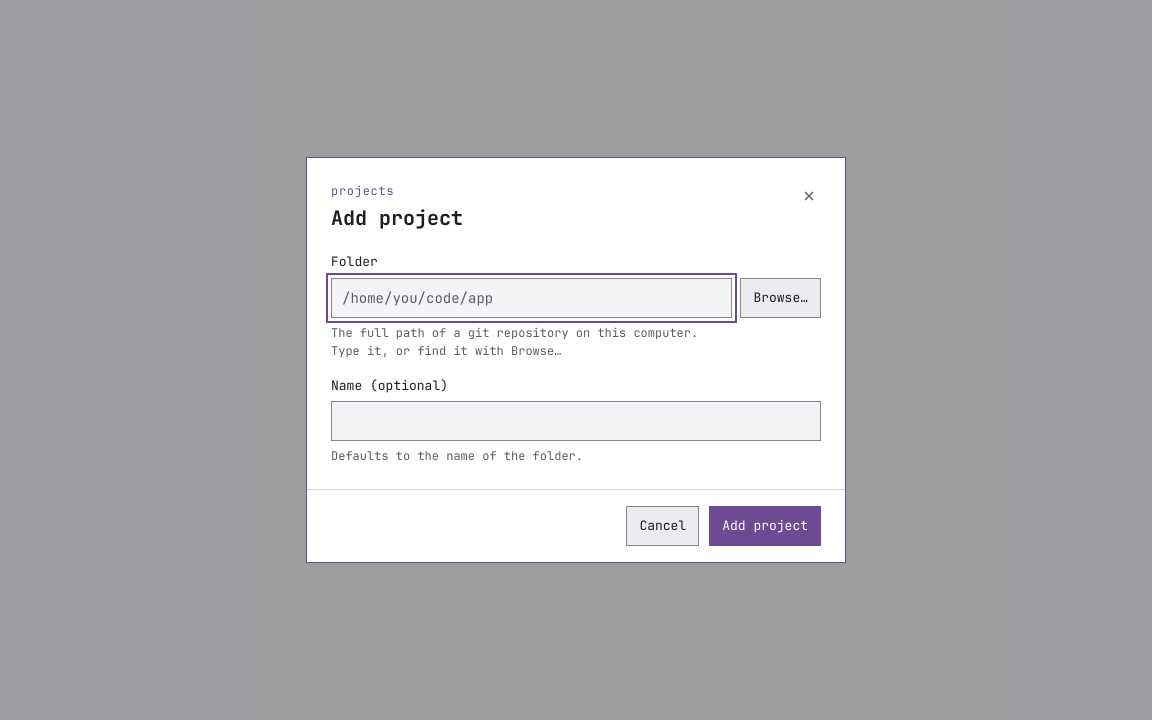
Browse… opens the folder picker and puts the chosen folder into the field
In the field named "path": (532, 298) [331,278,732,318], type "/work"
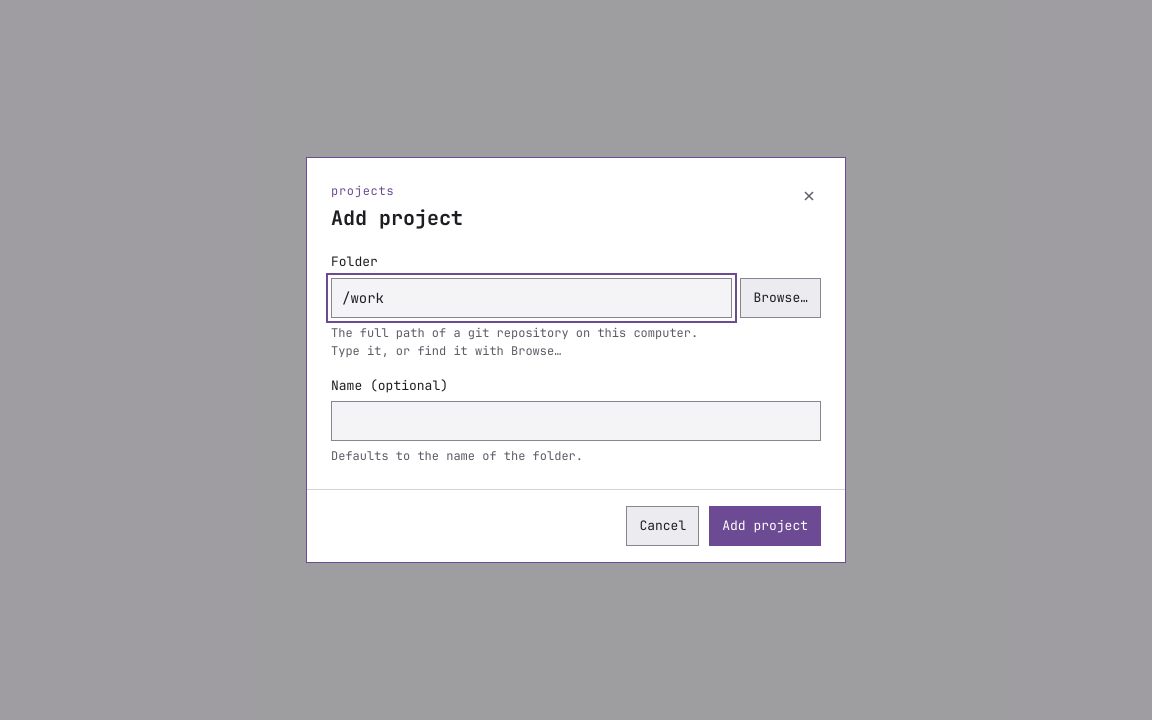
Click the button "Browse…": (781, 298) [740,278,821,318]
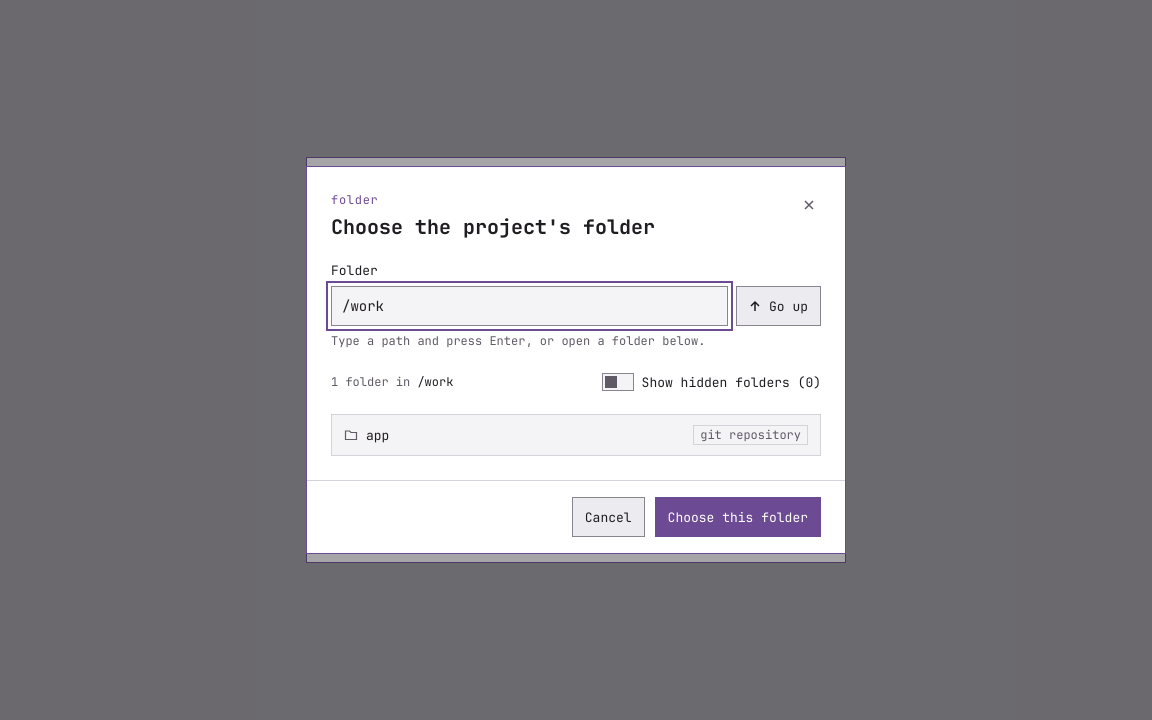
Check: the button "app git repository" is shown
Click the button "app git repository": (751, 435) [332,415,820,455]
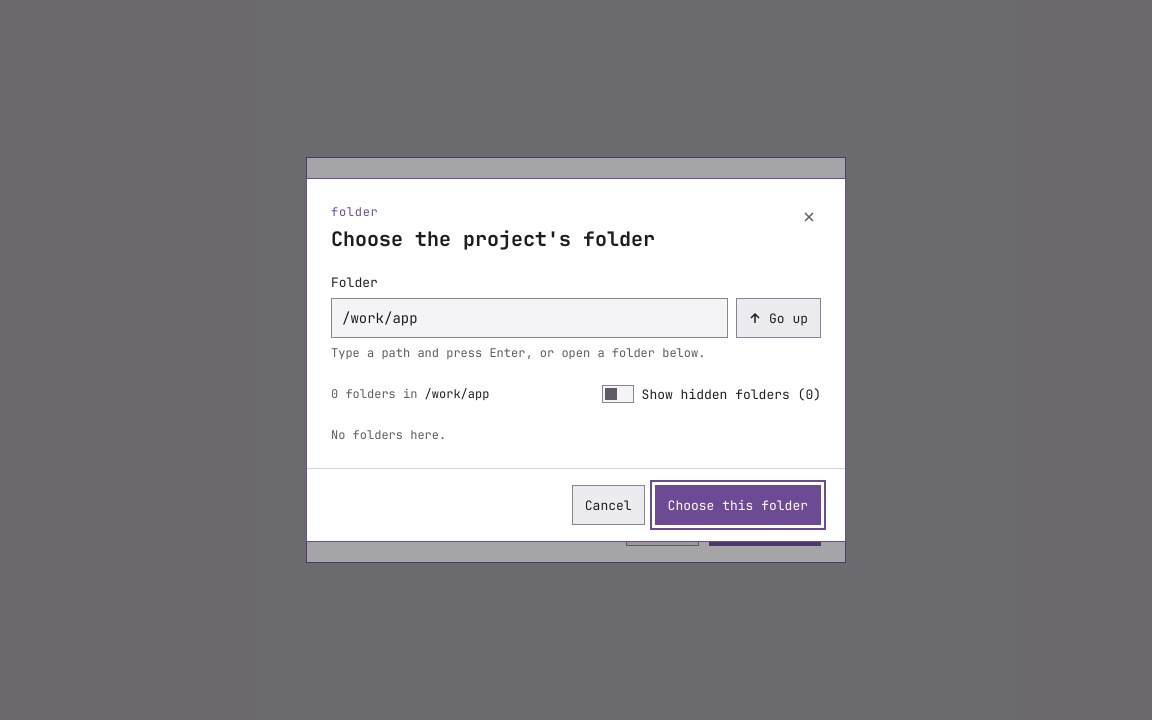
Click the button "Choose this folder": (738, 505) [655,485,821,525]
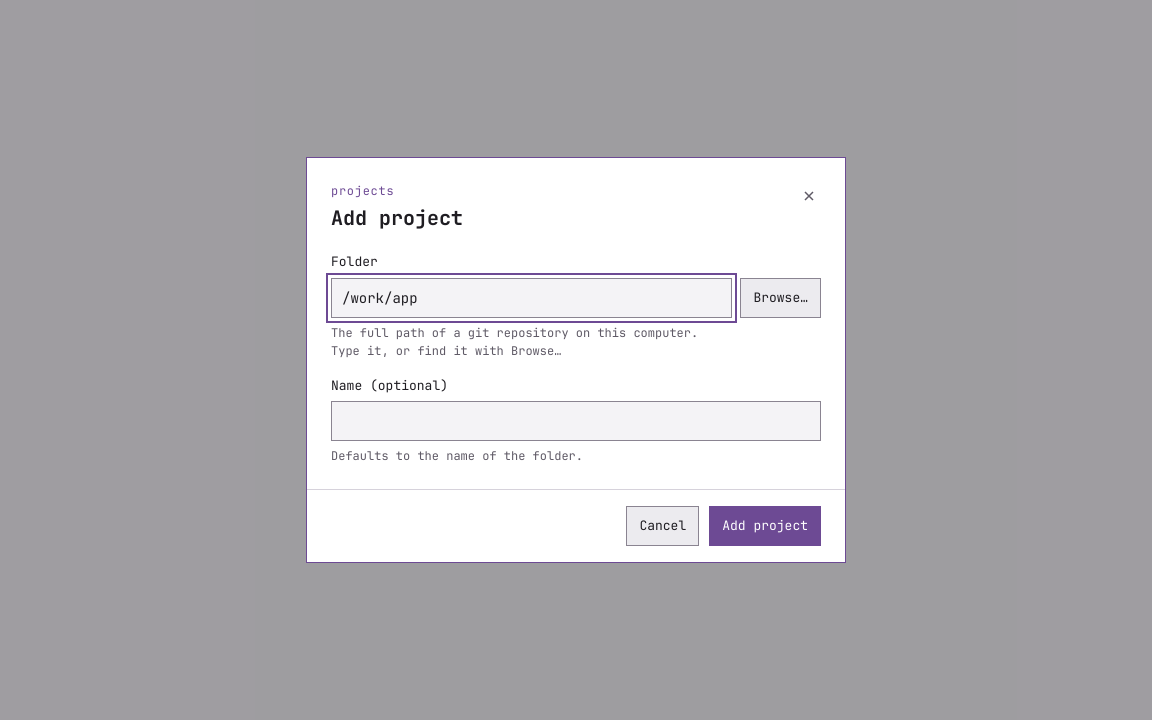
Check: the field named "path" holds "/work/app", box [331,278,732,318]
